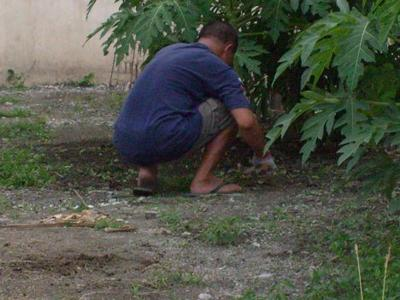person: (109, 19, 279, 197)
